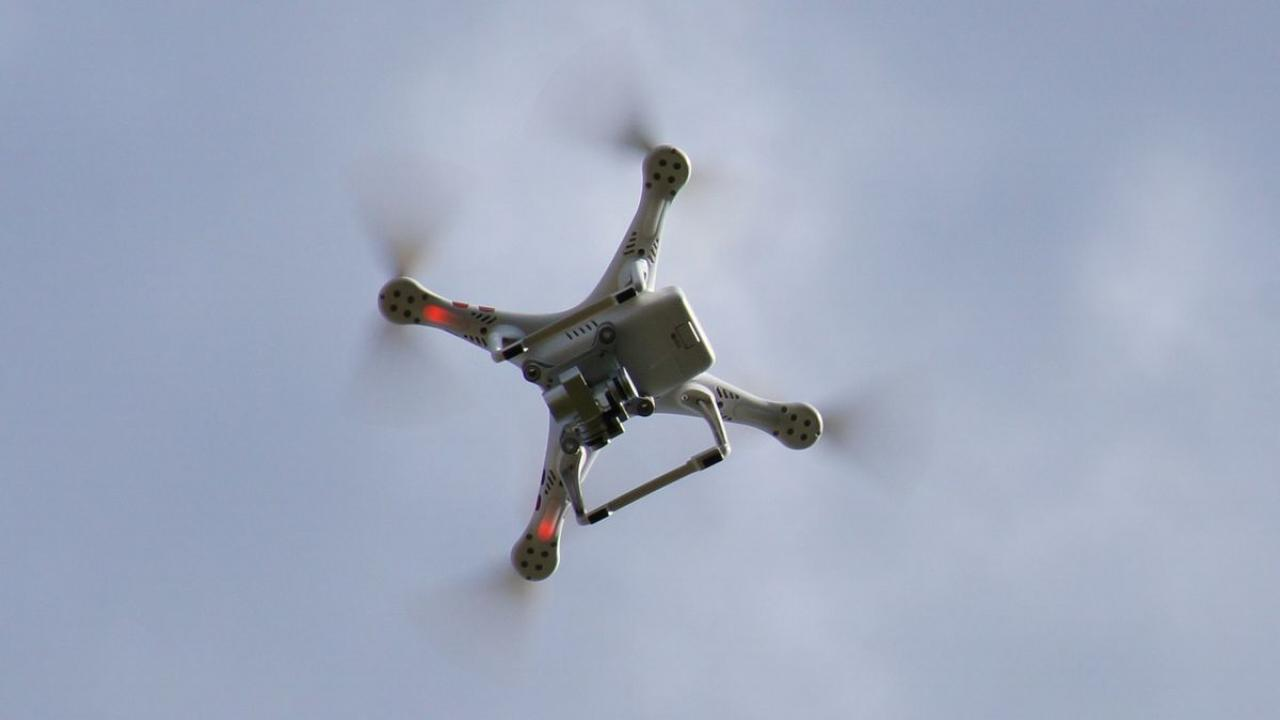Drone: (320, 16, 950, 700)
